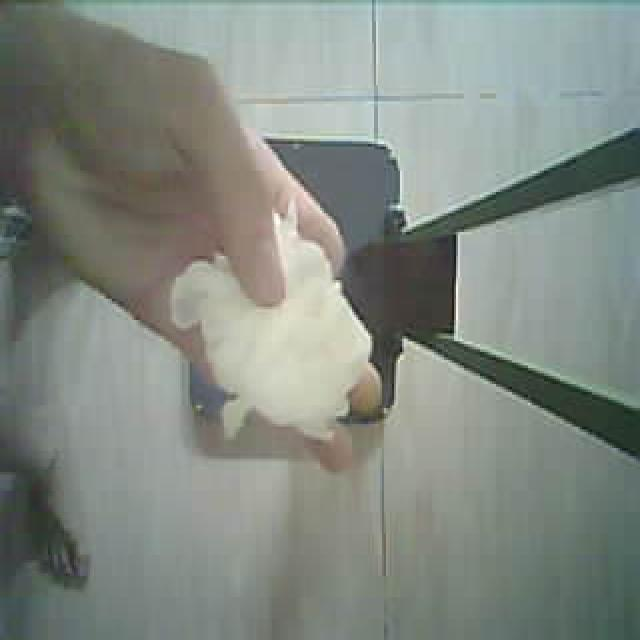Paper: (137, 196, 426, 491)
